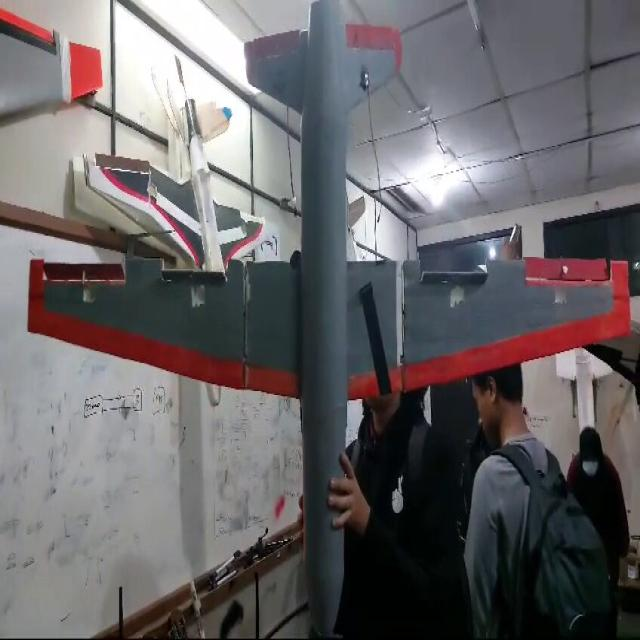plane: (10, 1, 631, 635)
